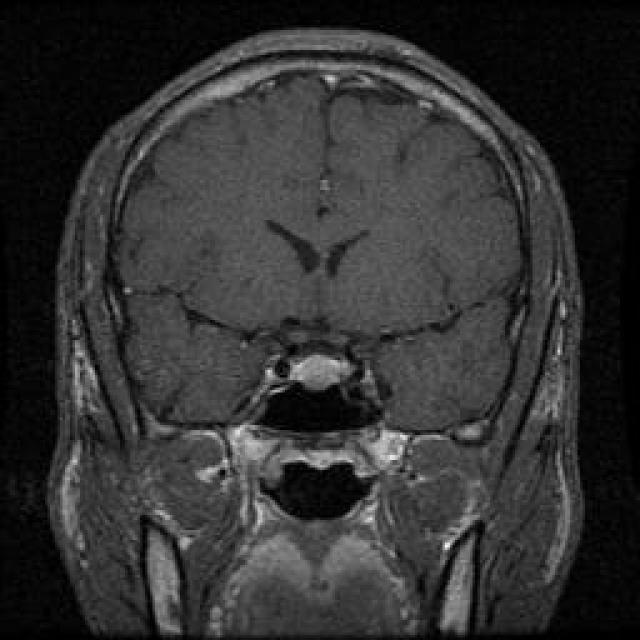pituitary: (283, 348, 364, 398)
